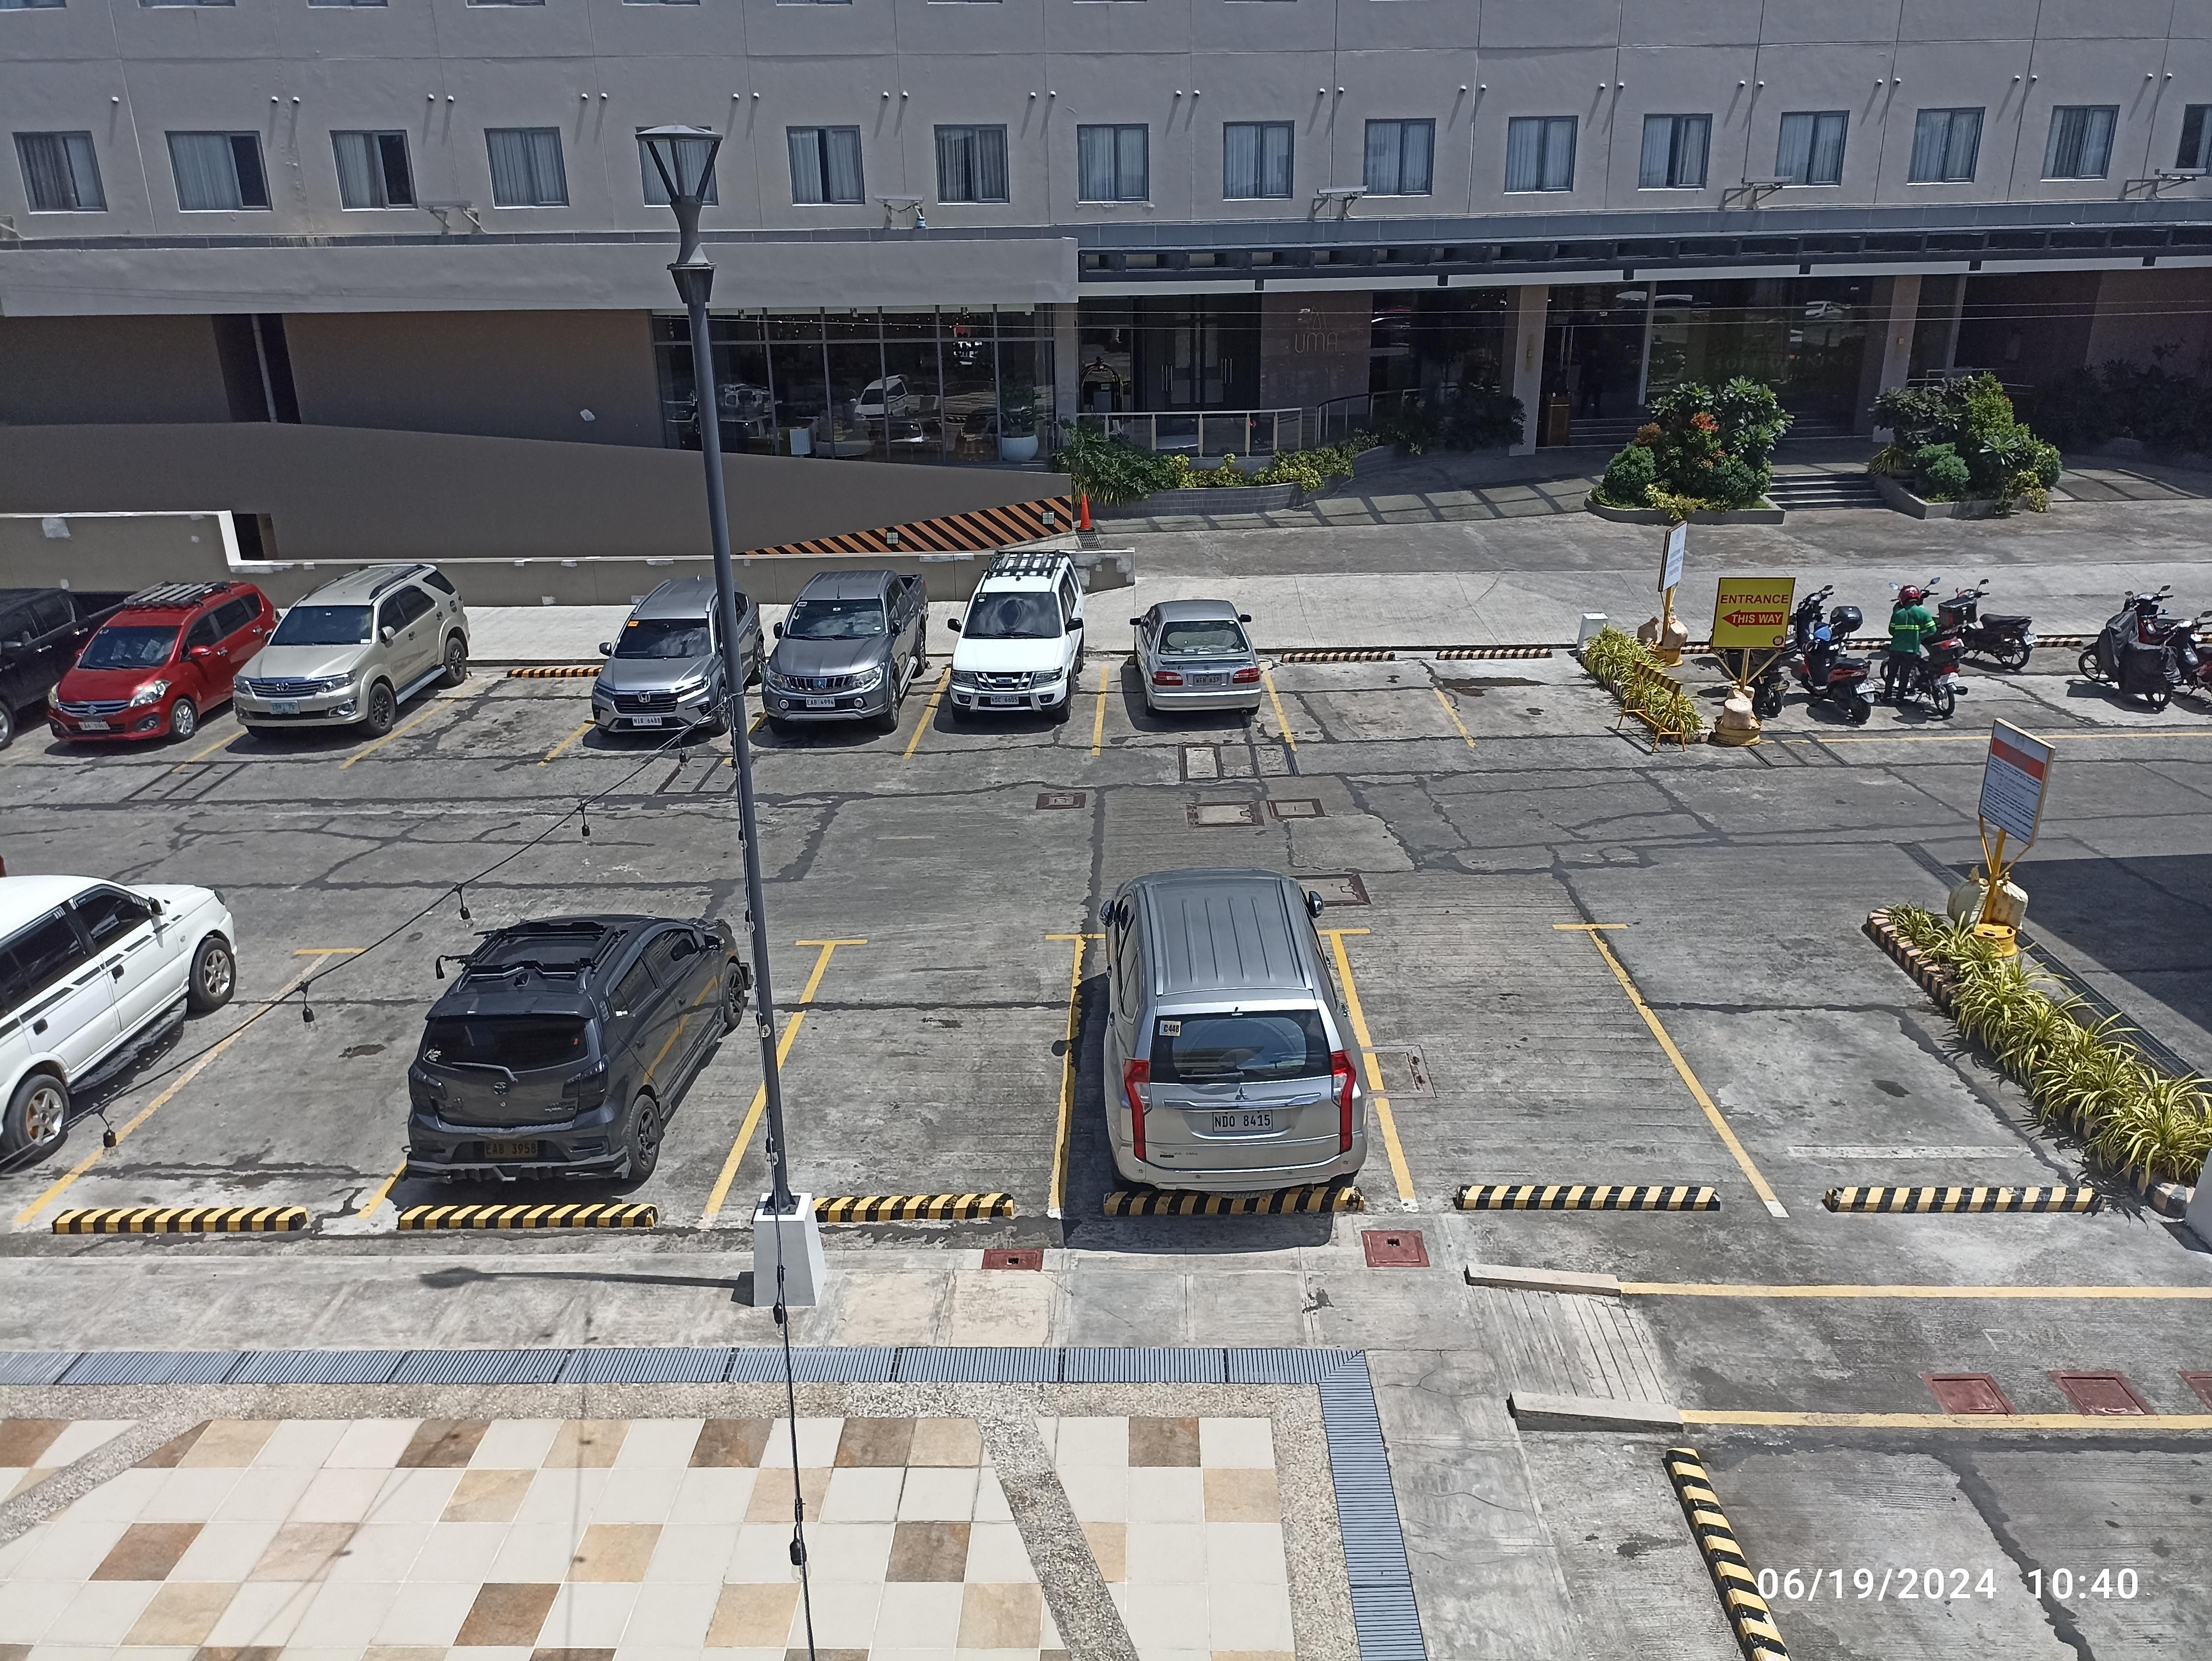occupied: (349, 937, 843, 1227), (1048, 925, 1422, 1216), (722, 665, 956, 764), (1090, 654, 1298, 755), (902, 665, 1109, 759)
vacant: (2, 946, 577, 1230), (1326, 923, 1792, 1216), (696, 933, 1087, 1218), (333, 666, 654, 769), (1256, 651, 1479, 752)
